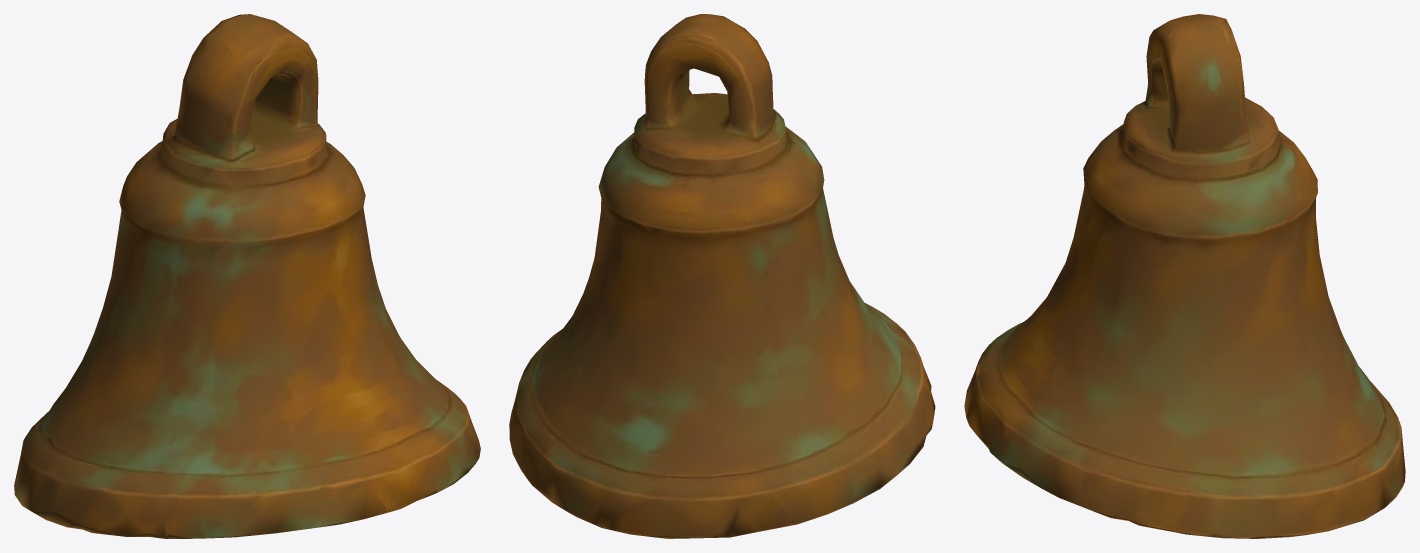
The model's file is bell.glb.
3 renders of one model, left to right at view 1: azimuth 30°, elevation 25°; view 2: azimuth 150°, elevation 25°; view 3: azimuth 270°, elevation 25°, orthographic. The views are drawn at different scales.
Parts seen in each view (by area): view 1: bell; view 2: bell; view 3: bell.
Part boxes in pixels (bbox=[...]): bell: bbox=[14, 14, 480, 538]; bell: bbox=[509, 14, 935, 538]; bell: bbox=[964, 14, 1405, 538].
Size of the model in its own units: 2.6 by 3 by 2.54.
Materials: 1 (1 with a texture image).
